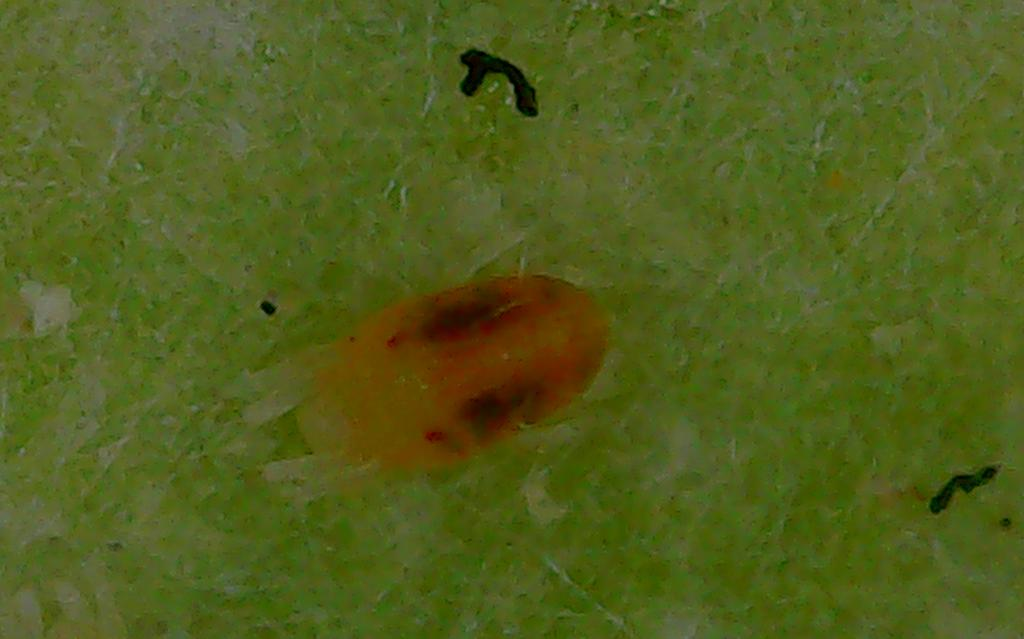tiny_pests: (193, 207, 684, 540)
